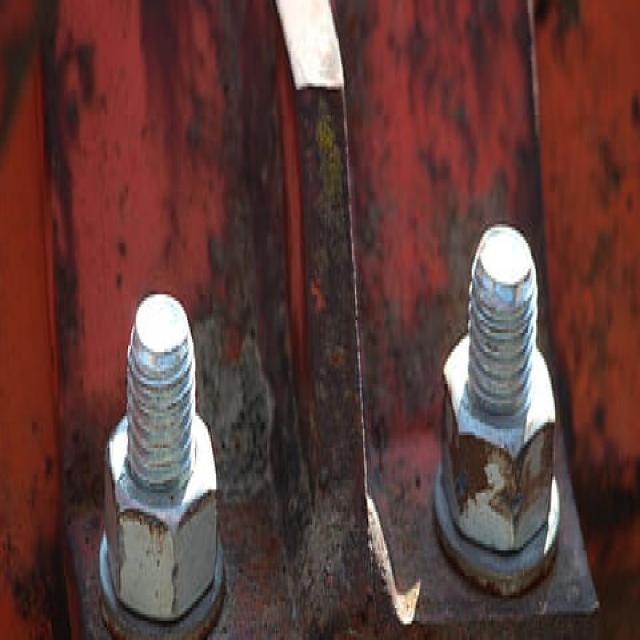Regular bolt: (104, 300, 221, 627)
Rusty bolt: (440, 333, 556, 552)
